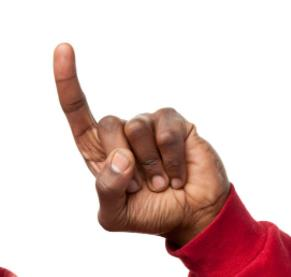up: (51, 42, 226, 233)
